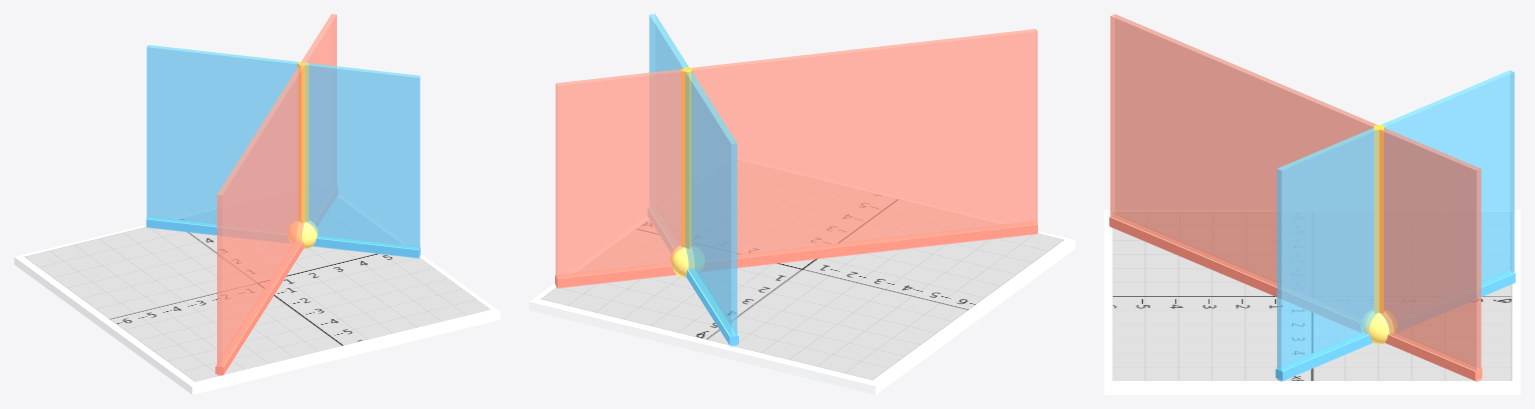
The model's file is epipeda-lysi.glb.
3 views of the same model, side by side, from view 1: azimuth 30°, elevation 25°; view 2: azimuth 150°, elevation 25°; view 3: azimuth 270°, elevation 25° (orthographic). The views are drawn at different scales.
Parts seen in each view (by area): view 1: epipedo_f, kannavos, epipedo_g, vasi, eytheia_f, eytheia_g, tomi, lysi; view 2: epipedo_g, kannavos, epipedo_f, vasi, eytheia_g, tomi, eytheia_f, lysi; view 3: epipedo_g, epipedo_f, kannavos, vasi, eytheia_g, eytheia_f, tomi, lysi.
Part boxes in pixels (x1,y1,x2,y2): epipedo_f: (146,45,420,258); kannavos: (24,197,490,381); epipedo_g: (217,14,336,375); vasi: (14,194,500,394); eytheia_f: (146,216,420,257); eytheia_g: (215,186,337,374); tomi: (297,61,308,222); lysi: (287,220,318,248); epipedo_g: (555,29,1037,288); kannavos: (540,160,1064,379); epipedo_f: (649,14,737,346); vasi: (529,158,1075,394); eytheia_g: (555,221,1037,287); tomi: (681,67,693,248); eytheia_f: (648,208,738,345); lysi: (670,245,704,277); epipedo_g: (1110,14,1481,381); epipedo_f: (1277,70,1514,381); kannavos: (1112,212,1512,380); vasi: (1104,210,1520,394); eytheia_g: (1109,214,1482,380); eytheia_f: (1275,271,1515,380); tomi: (1374,125,1383,313); lysi: (1361,310,1396,343).
Size of the model in its own units: 0.25 by 0.147 by 0.25.
Materials: 8 (1 with a texture image).
